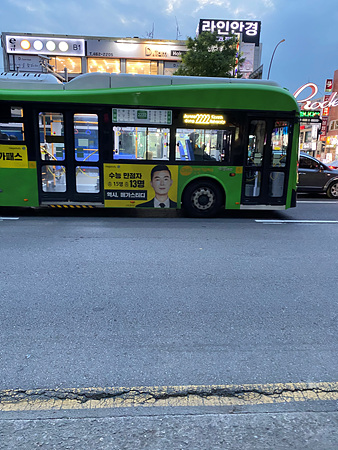entrance: (242, 109, 291, 216)
